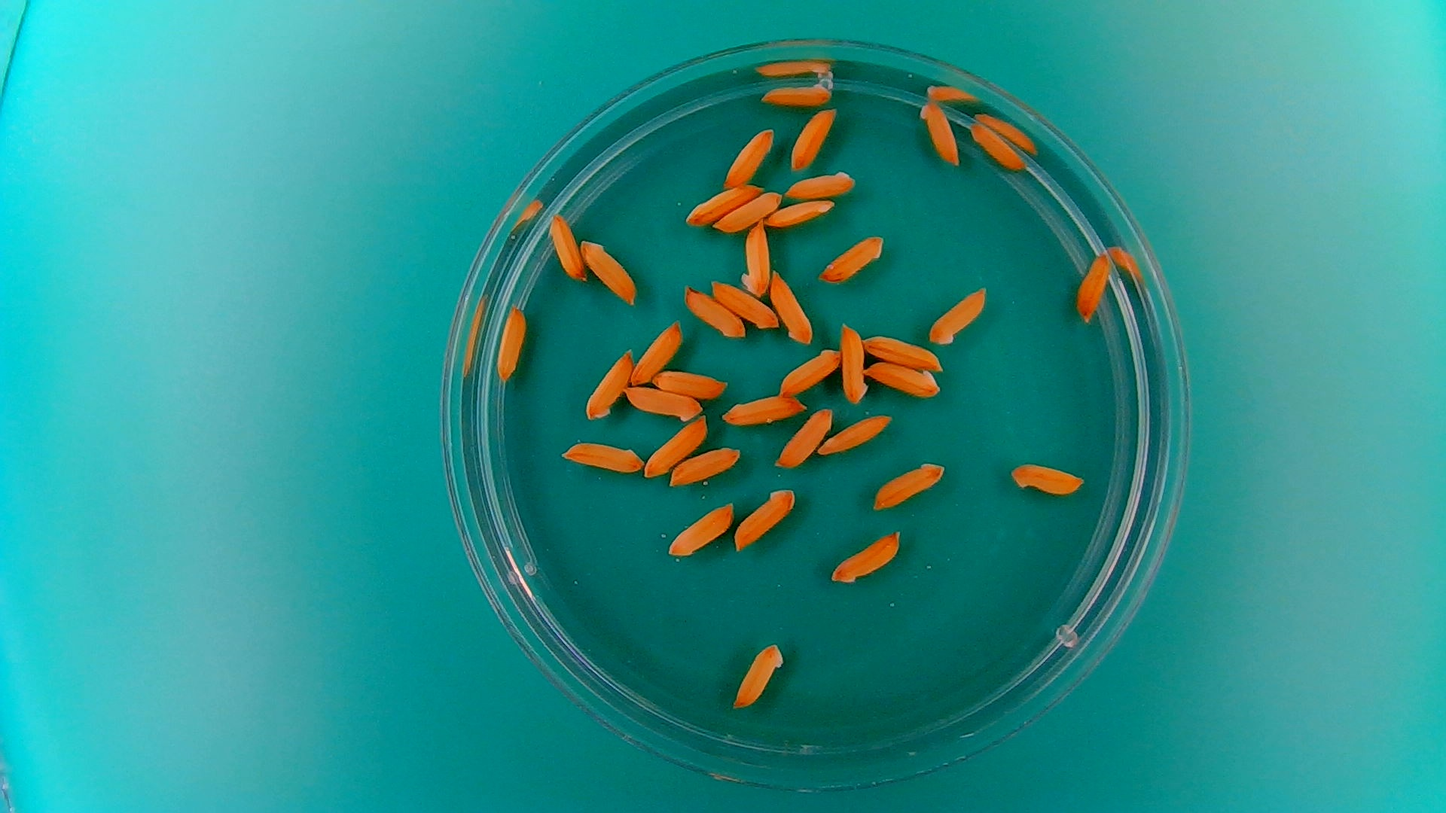no: (828, 527, 902, 586), (642, 414, 709, 478), (577, 236, 639, 305), (666, 500, 737, 559), (732, 485, 796, 550), (871, 457, 947, 511), (730, 640, 786, 711), (775, 406, 835, 470), (582, 346, 632, 422), (628, 318, 683, 387), (927, 285, 988, 347), (767, 268, 816, 345), (861, 358, 941, 404), (709, 279, 779, 331), (816, 233, 887, 284), (816, 410, 894, 456), (682, 283, 746, 339), (685, 183, 764, 227), (721, 126, 775, 188), (776, 346, 842, 396), (719, 391, 807, 428), (668, 443, 743, 486), (621, 384, 703, 423), (713, 188, 783, 233), (789, 106, 837, 170), (861, 333, 944, 370), (560, 438, 645, 474), (966, 120, 1024, 172), (546, 210, 587, 283), (1008, 461, 1087, 498), (917, 97, 959, 165), (1074, 249, 1112, 323), (839, 321, 871, 406), (651, 364, 731, 398), (493, 303, 527, 382), (741, 221, 771, 297), (759, 78, 834, 107), (786, 169, 857, 199), (763, 198, 836, 227)
